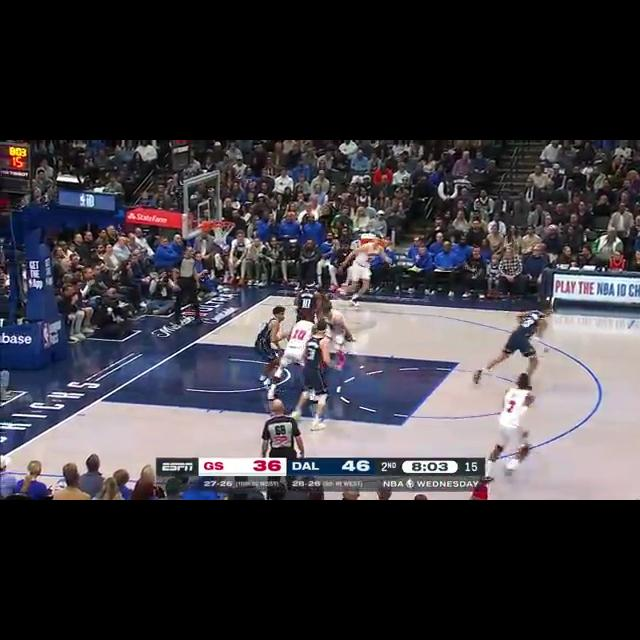Team-1-Player: (472, 308, 562, 392), (244, 304, 294, 394), (292, 320, 331, 430), (294, 277, 330, 319)
Team-2-Player: (477, 372, 543, 483), (324, 236, 408, 308), (314, 295, 360, 353), (278, 310, 320, 366)
